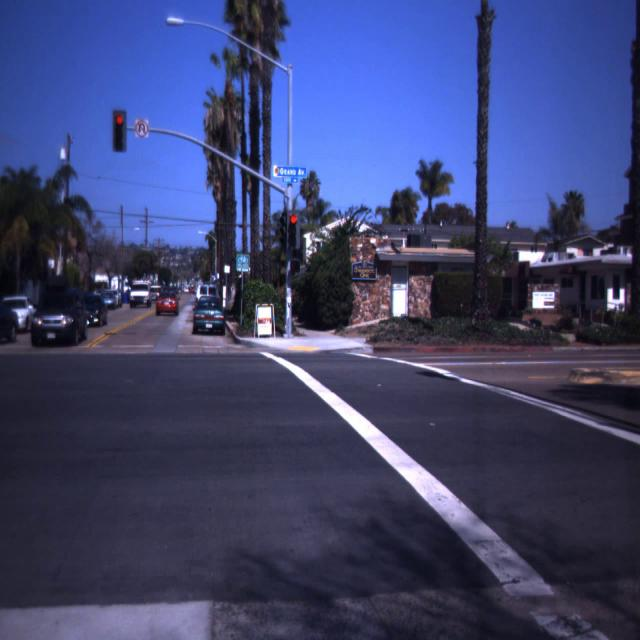kirmizi: (112, 110, 127, 152), (287, 210, 300, 248)
